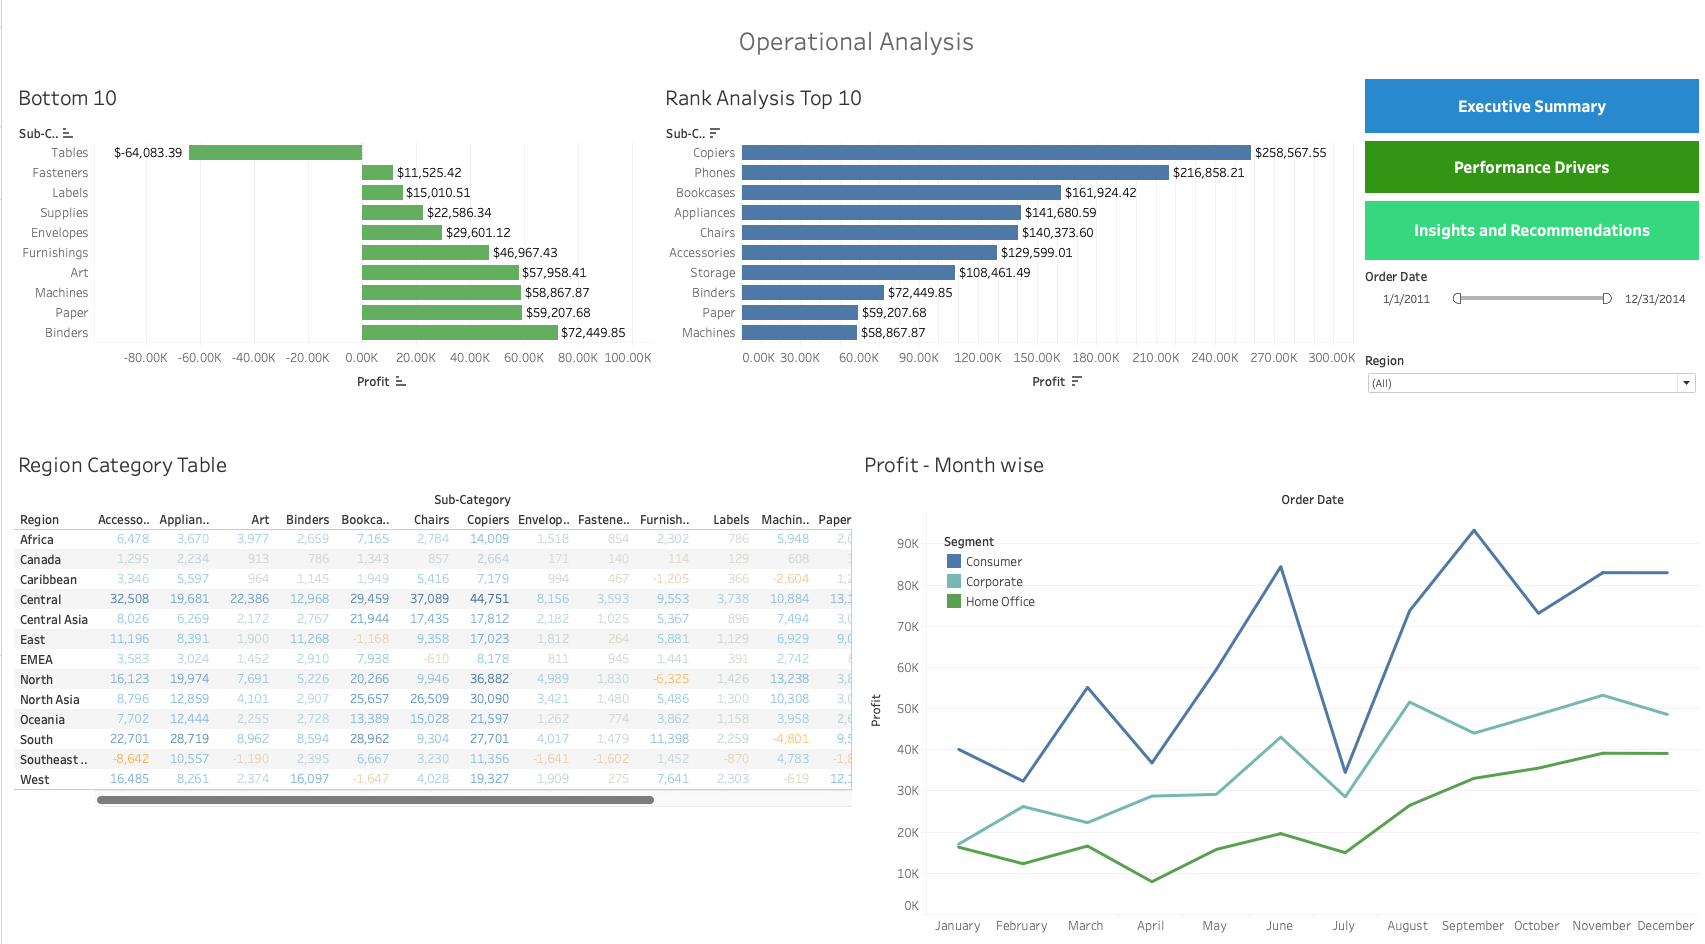

The page's visual inventory and layout, read from the dashboard file:
{"tool":"tableau","page":{"name":"Page 3","canvas":[1000,1000],"units":"permille","ordinal":2},"visuals":[{"type":"text","box":[5.6,9.6,988.9,71.5]},{"type":"worksheet","title":"P3 2","mark":"Automatic","rows":["Sub-Category"],"cols":["Profit"],"box":[5.6,81.1,300.2,386.5]},{"type":"worksheet","title":"P3 1","mark":"Automatic","rows":["Sub-Category"],"cols":["Profit"],"box":[305.7,81.1,488.9,386.5]},{"type":"dashboard-object","box":[794.6,81.1,199.8,65.2]},{"type":"dashboard-object","box":[794.6,146.4,199.8,63.1]},{"type":"dashboard-object","box":[794.6,209.5,199.8,70.5]},{"type":"filter","title":"P3 1","param":"[federated.0vdm7c1130wqvm1644y8f11i72go].[none:Order Date:qk]","box":[794.6,280,199.8,88.4]},{"type":"filter","title":"P3 1","param":"[federated.0vdm7c1130wqvm1644y8f11i72go].[none:Region:nk]","box":[794.6,368.4,199.8,99.3]},{"type":"worksheet","title":"P3 3","mark":"Automatic","rows":["Region"],"cols":["Sub-Category"],"box":[5.6,467.7,494.4,522.7]},{"type":"worksheet","title":"P3 4","mark":"Automatic","rows":["Profit"],"cols":["Order Date"],"box":[500,467.7,494.4,522.7]},{"type":"legend","title":"P3 4","param":"[federated.0vdm7c1130wqvm1644y8f11i72go].[none:Segment:nk]","box":[551.2,563.3,215.3,98.1]}]}

Visuals, with their boxes on the dashboard's canvas, which has no fixed pixel size, in thousandths of its width and height (x1, y1, x2, y2). These are canvas units, not pixel positions in the 1705x944 screenshot, which may show the page scaled, cropped or inside an application window:
text: BBox(6, 10, 994, 81)
"P3 2" worksheet: BBox(6, 81, 306, 468)
"P3 1" worksheet: BBox(306, 81, 795, 468)
dashboard-object: BBox(795, 81, 994, 146)
dashboard-object: BBox(795, 146, 994, 210)
dashboard-object: BBox(795, 210, 994, 280)
"P3 1" filter: BBox(795, 280, 994, 368)
"P3 1" filter: BBox(795, 368, 994, 468)
"P3 3" worksheet: BBox(6, 468, 500, 990)
"P3 4" worksheet: BBox(500, 468, 994, 990)
"P3 4" legend: BBox(551, 563, 766, 661)
